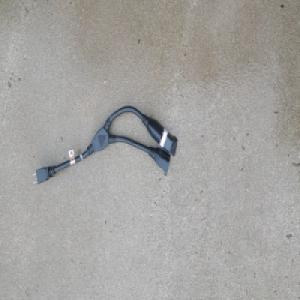Wire: (31, 103, 178, 186)
